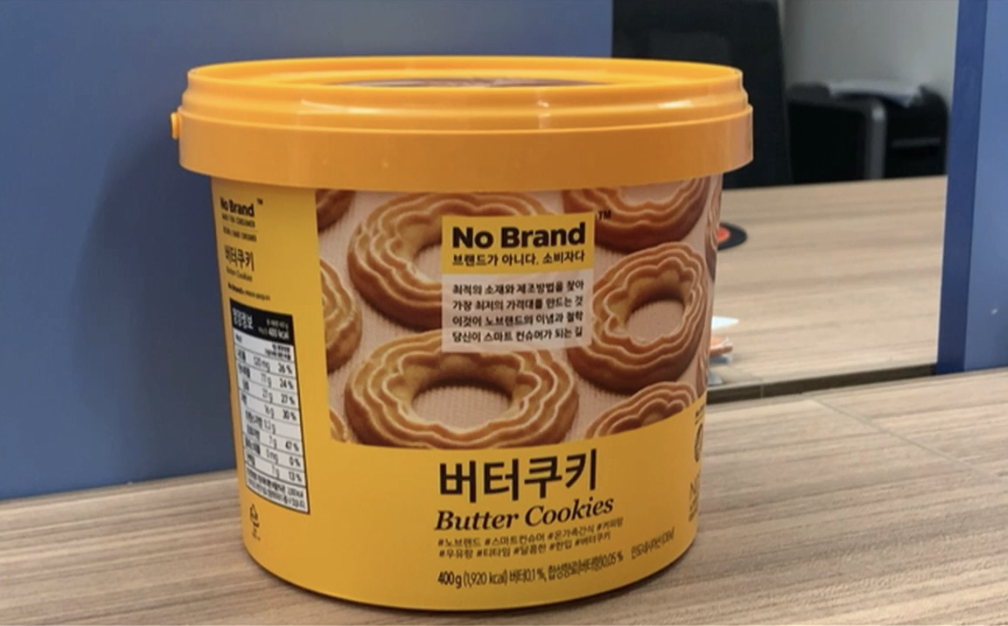cookies_400g-499g: (294, 187, 655, 574)
